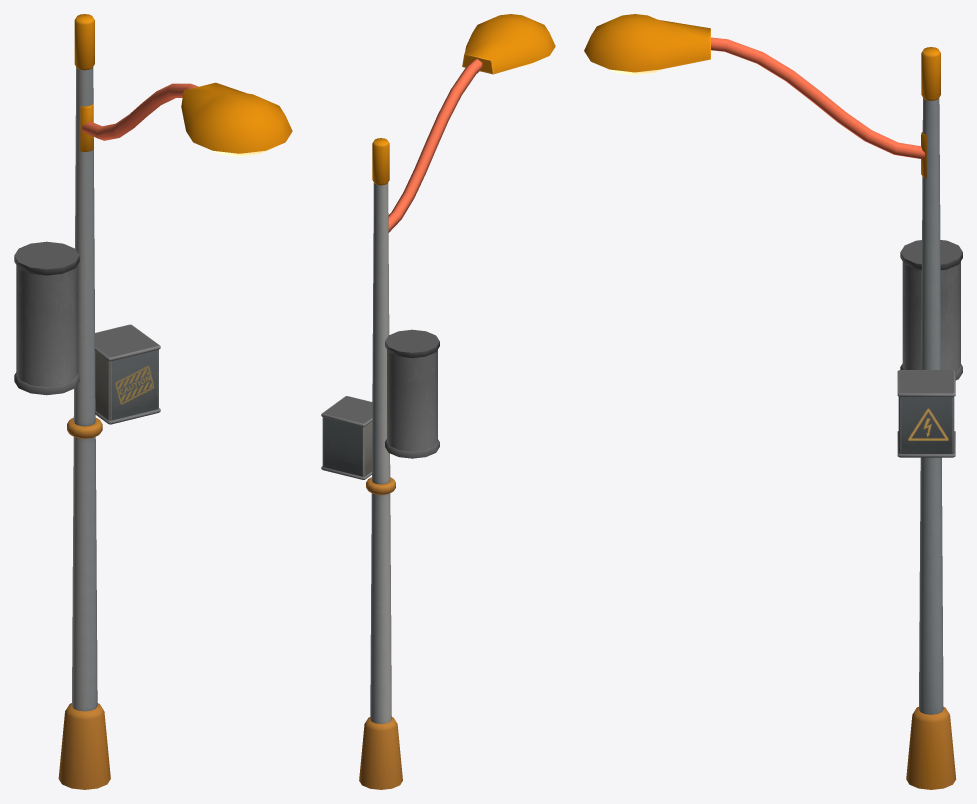
The model's file is LampPostSciFi_01.glb.
The picture shows the model from 3 angles, left to right: view 1: azimuth 30°, elevation 25°; view 2: azimuth 150°, elevation 25°; view 3: azimuth 270°, elevation 25°; orthographic projection. The views are drawn at different scales.
Visible parts, largest first — view 1: LampostBig; view 2: LampostBig; view 3: LampostBig.
Part boxes in pixels (x1,y1,x2,y2): LampostBig: [14, 14, 292, 789]; LampostBig: [321, 14, 555, 789]; LampostBig: [584, 14, 962, 789].
Size of what is drawn, in the model's own units: 2.14 by 12.94 by 5.86.
Materials: 1 (1 with a texture image).
